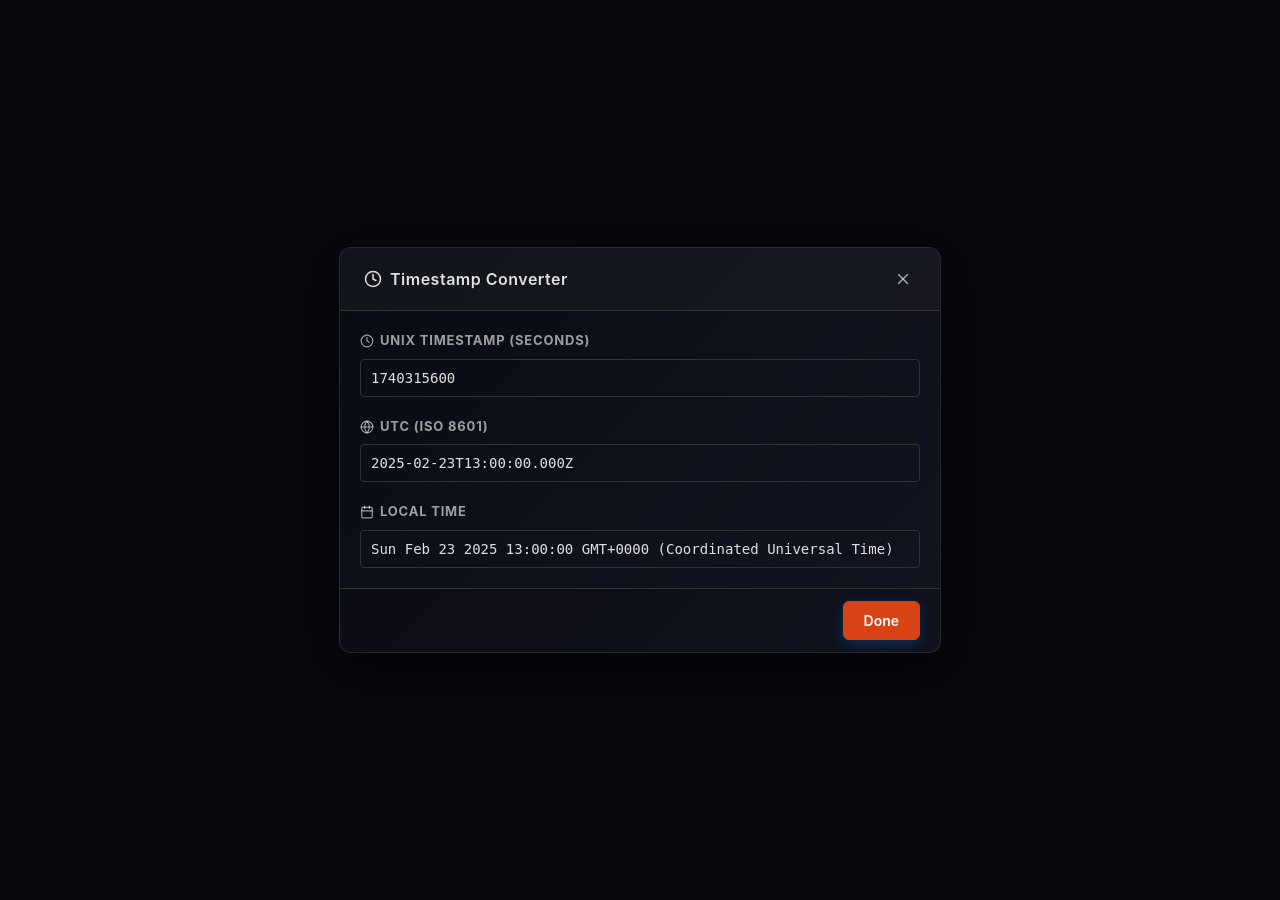
TimestampConverterDialog › updates Unix when UTC changes
Replace the text in the field labelled "UTC (ISO 8601)" with "2024-01-01T00:00:00Z". click: [640, 463]
box: left=360, top=444, right=920, bottom=482
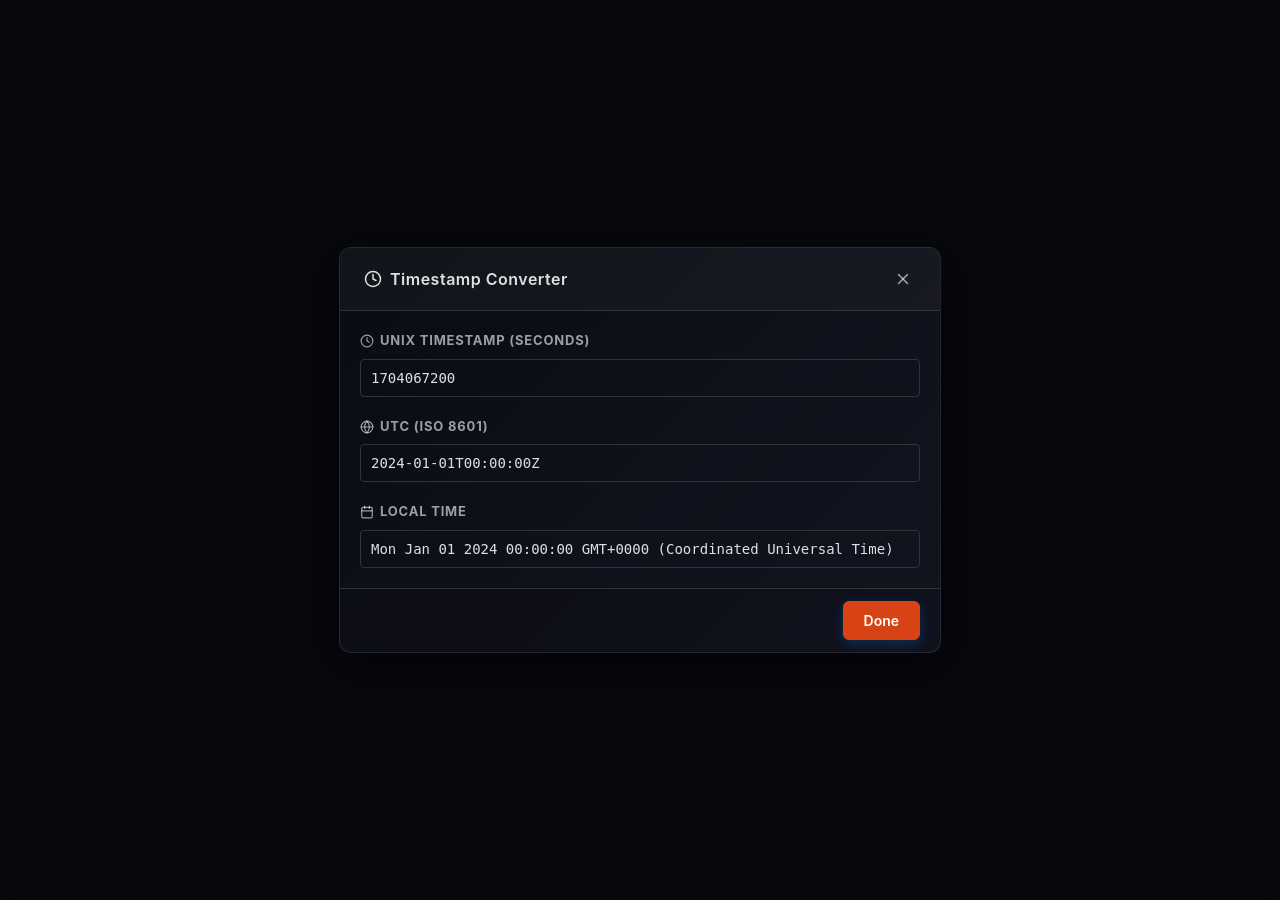
expect the field labelled "Unix Timestamp (seconds)" holds "1704067200": met, box left=360, top=359, right=920, bottom=397
